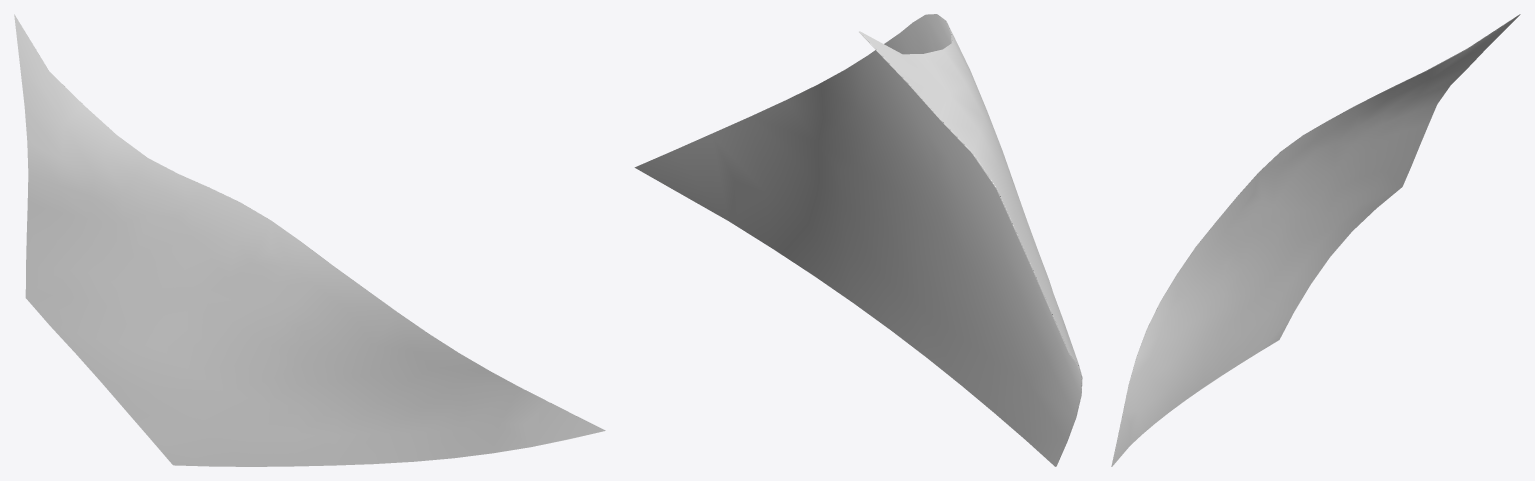
File: Jac_Decor_Pocket_LEFT.glb
3 renders of one model, left to right at view 1: azimuth 30°, elevation 25°; view 2: azimuth 150°, elevation 25°; view 3: azimuth 270°, elevation 25°, orthographic. The views are drawn at different scales.
Parts seen in each view (by area): view 1: Jac_Decor_Pocket_LEFT.001; view 2: Jac_Decor_Pocket_LEFT.001; view 3: Jac_Decor_Pocket_LEFT.001.
Boxes of the visible parts, x1,y1,x2,y2 form: Jac_Decor_Pocket_LEFT.001: (14, 14, 605, 466); Jac_Decor_Pocket_LEFT.001: (634, 14, 1082, 466); Jac_Decor_Pocket_LEFT.001: (1111, 14, 1520, 466).
Bounding box in the file's own units: 0.0849 × 0.0697 × 0.0818.
1 material, 1 textured.
